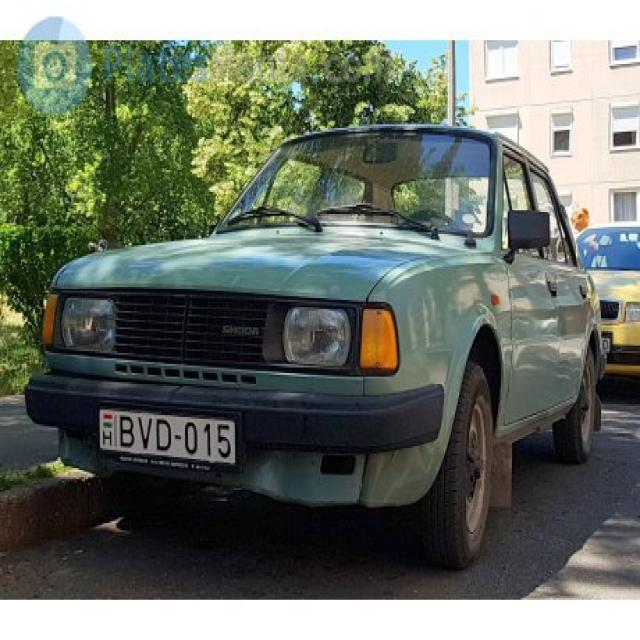licence: (99, 405, 244, 476)
